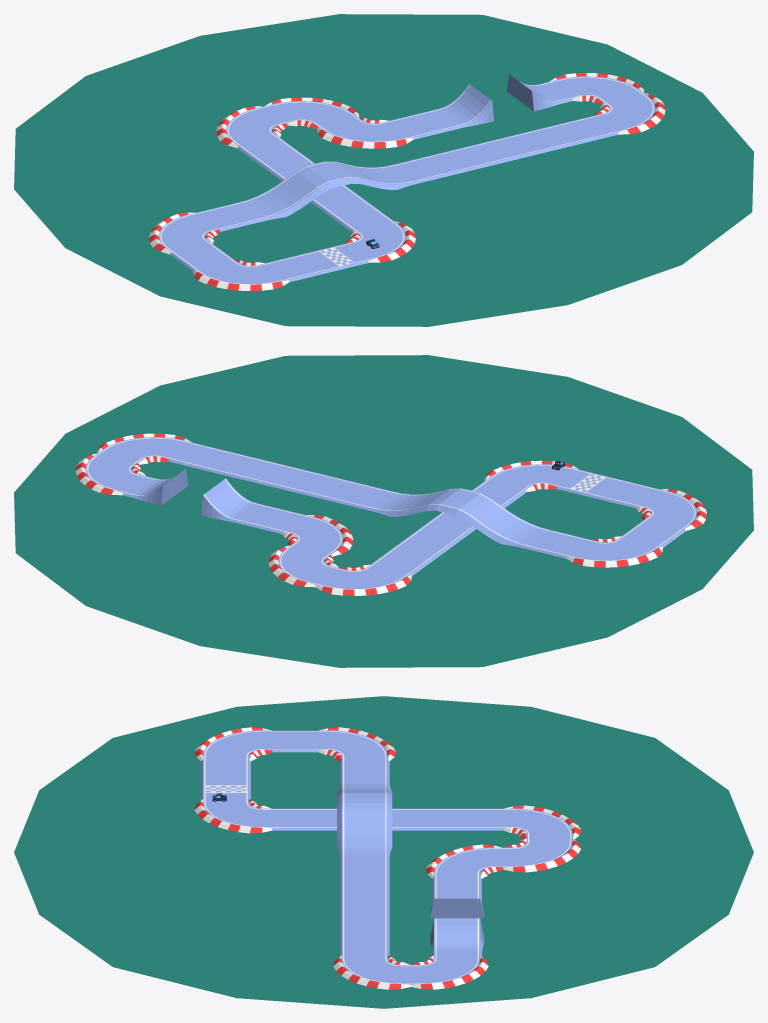
File: race_course-TEMP-EXPORT.fbx
3 renders of one model, top to bottom at view 1: azimuth 30°, elevation 25°; view 2: azimuth 150°, elevation 25°; view 3: azimuth 270°, elevation 25°, orthographic.
Parts seen in each view (by area): view 1: Plane ground, road straight.011, road straight.007, road curve.003, road curve.004, road curve.007, road curve.005, road curve.001, road curve.002, road curve.006, road curve, road straight.006 (+11 smaller); view 2: Plane ground, road straight.011, road straight.007, road curve.005, road curve.001, road curve.006, road curve.002, road curve.004, road curve.003, road curve.007, road curve, road straight.006 (+11 smaller); view 3: Plane ground, road straight.011, road straight.006, road curve.007, road curve.006, road curve.002, road curve, road curve.004, road curve.005, road curve.001, road curve.003, road ramp.001 (+10 smaller).
Part boxes in pixels (bbox=[...]): Plane ground: bbox=[14, 14, 753, 326]; road straight.011: bbox=[396, 115, 618, 182]; road straight.007: bbox=[237, 163, 341, 221]; road curve.003: bbox=[317, 117, 413, 148]; road curve.004: bbox=[193, 259, 289, 290]; road curve.007: bbox=[594, 92, 665, 134]; road curve.005: bbox=[149, 212, 220, 254]; road curve.001: bbox=[216, 106, 287, 147]; road curve.002: bbox=[264, 97, 359, 128]; road curve.006: bbox=[549, 73, 644, 104]; road curve: bbox=[345, 221, 415, 262]; road straight.006: bbox=[316, 161, 419, 189]; Plane ground: bbox=[14, 355, 753, 667]; road straight.011: bbox=[168, 442, 390, 509]; road straight.007: bbox=[446, 490, 549, 548]; road curve.005: bbox=[566, 536, 662, 567]; road curve.001: bbox=[315, 564, 411, 595]; road curve.006: bbox=[75, 453, 145, 495]; road curve.002: bbox=[268, 545, 338, 587]; road curve.004: bbox=[635, 489, 706, 530]; road curve.003: bbox=[282, 515, 353, 556]; road curve.007: bbox=[97, 433, 191, 464]; road curve: bbox=[484, 460, 579, 491]; road straight.006: bbox=[367, 488, 470, 516]; Plane ground: bbox=[14, 696, 753, 1008]; road straight.011: bbox=[340, 857, 389, 956]; road straight.006: bbox=[337, 798, 392, 858]; road curve.007: bbox=[333, 955, 410, 989]; road curve.006: bbox=[411, 955, 488, 989]; road curve.002: bbox=[503, 838, 580, 872]; road curve: bbox=[194, 799, 272, 833]; road curve.004: bbox=[194, 727, 272, 761]; road curve.005: bbox=[318, 727, 396, 761]; road curve.001: bbox=[503, 805, 581, 839]; road curve.003: bbox=[425, 844, 503, 878]; road ramp.001: bbox=[430, 918, 484, 956].
Bounding box in the file's own units: 16002 × 656 × 16002.
